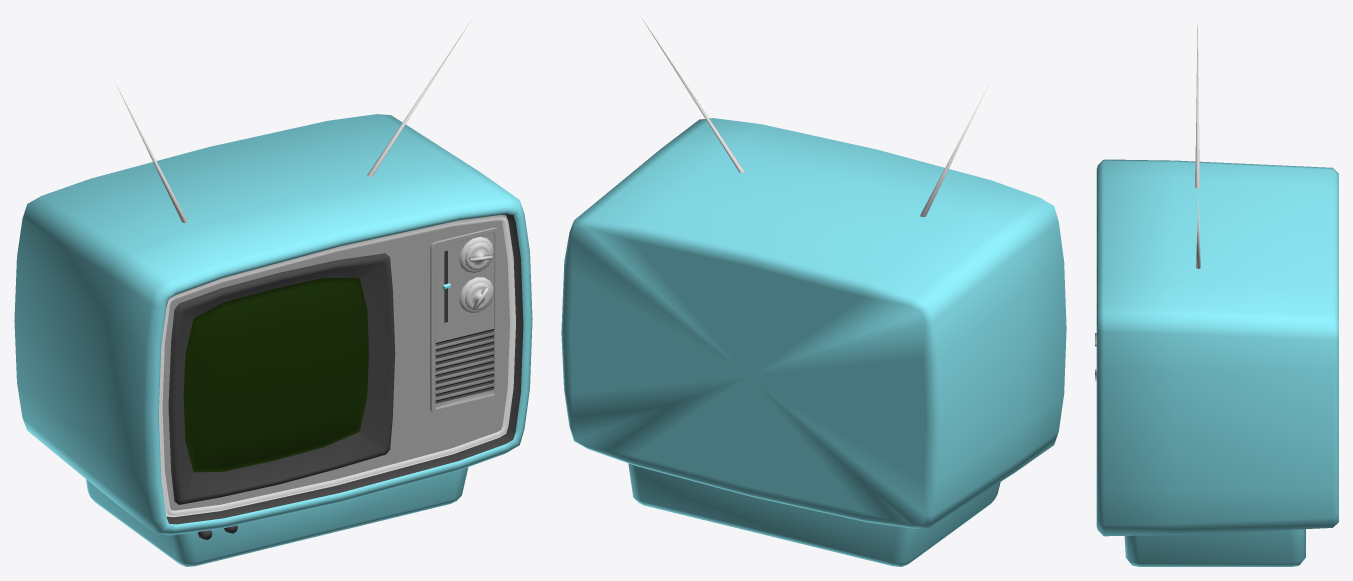
The model's file is tüpl-tv.fbx.
The picture shows the model from 3 angles, left to right: view 1: azimuth 30°, elevation 25°; view 2: azimuth 150°, elevation 25°; view 3: azimuth 270°, elevation 25°; orthographic projection. The views are drawn at different scales.
Visible parts, largest first — view 1: Retro_TV; view 2: Retro_TV; view 3: Retro_TV.
Boxes of the visible parts, box(x1,y1,x2,y2) form: Retro_TV: box(14, 18, 532, 566); Retro_TV: box(561, 19, 1066, 566); Retro_TV: box(1095, 25, 1338, 566).
Size of the model in its own units: 11021 by 12699 by 6702.
